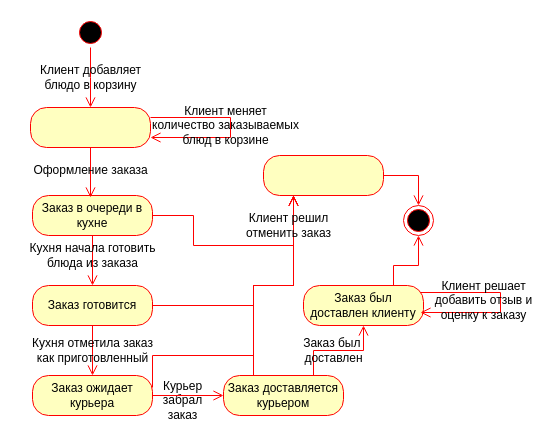
Some shapes in this 560 by 448 pixel diagram are drawn without their labels. Each missing label, with the centre of its shape:
"Заказ был отменен" belongs at (323,175).
"Наполненная корзина" belongs at (90,127).
